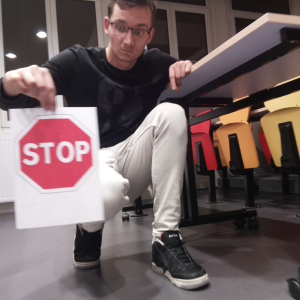stop: (16, 115, 96, 191)
